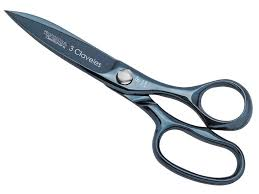tihiras: (2, 8, 254, 186)
